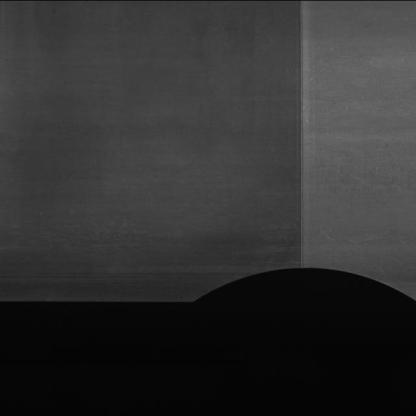welding_line: (280, 0, 315, 278)
